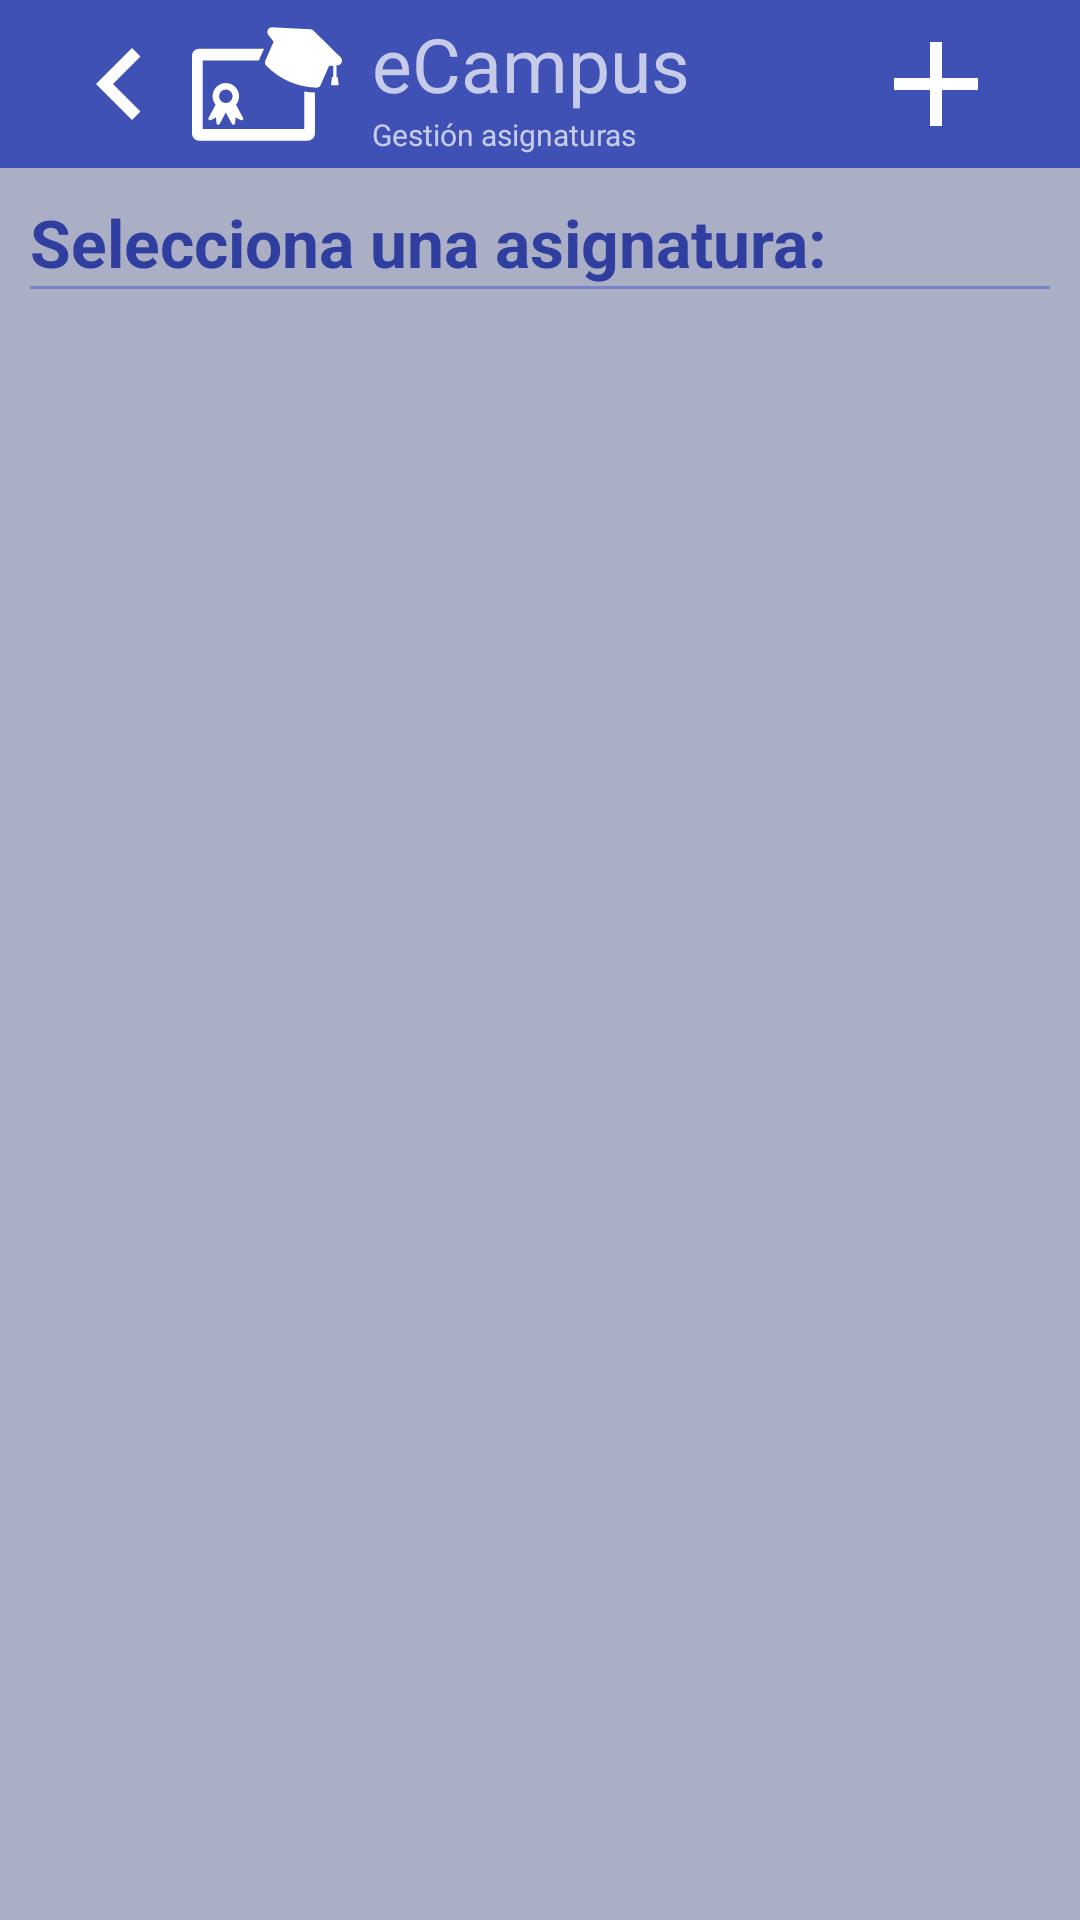

Icons on this 1080*1920 Android screen, each with its box as (x1, y1, x2, y2):
add toolbar: (894, 42, 978, 126)
back toolbar: (96, 48, 141, 120)
